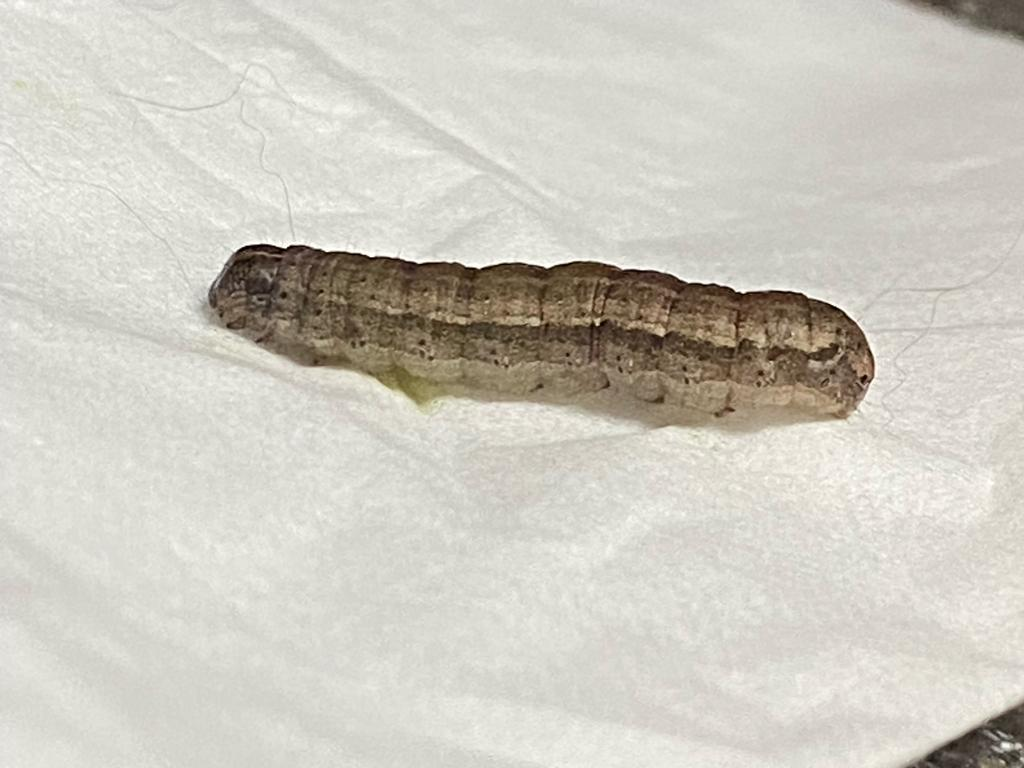caterpillars: (146, 163, 924, 523)
